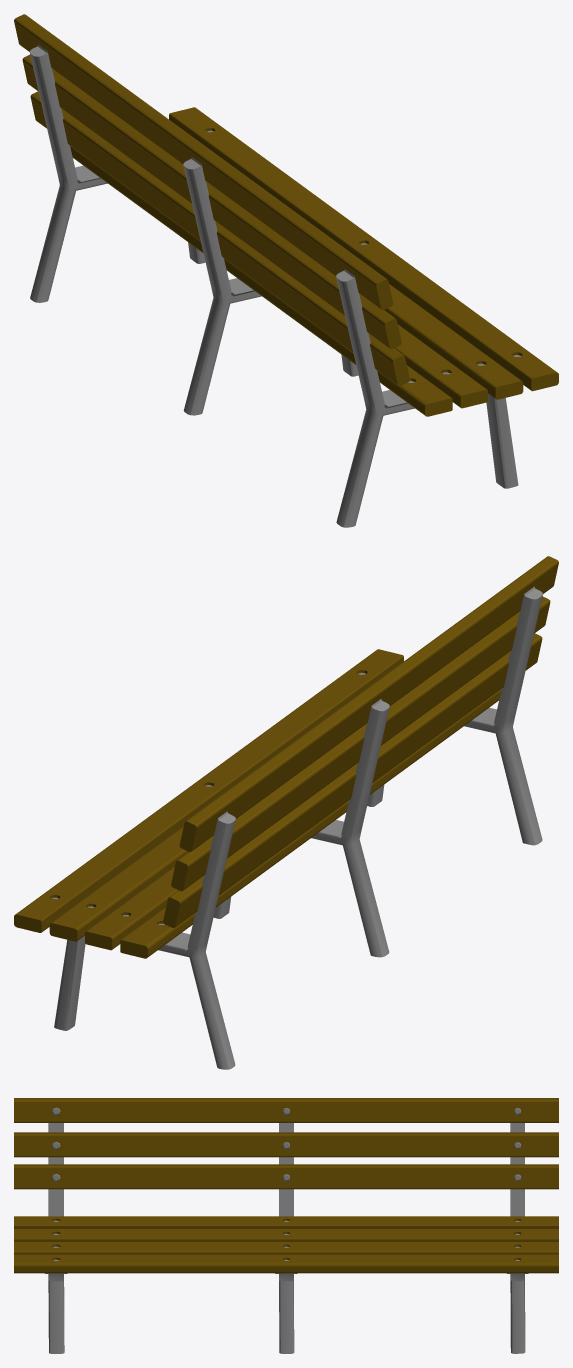
The model's file is Bench.fbx.
3 views of the same model, one above another, from view 1: azimuth 30°, elevation 25°; view 2: azimuth 150°, elevation 25°; view 3: azimuth 270°, elevation 25° (orthographic). The views are drawn at different scales.
Parts seen in each view (by area): view 1: Wood, Support; view 2: Wood, Support; view 3: Wood, Support.
Boxes of the visible parts, x1=… form: Wood: x1=14, y1=14, x2=558, y2=416; Support: x1=29, y1=44, x2=518, y2=527; Wood: x1=14, y1=556, x2=558, y2=958; Support: x1=54, y1=586, x2=542, y2=1069; Wood: x1=14, y1=1098, x2=558, y2=1273; Support: x1=45, y1=1123, x2=528, y2=1353.
Bounding box in the file's own units: 765 × 995 × 2498.
